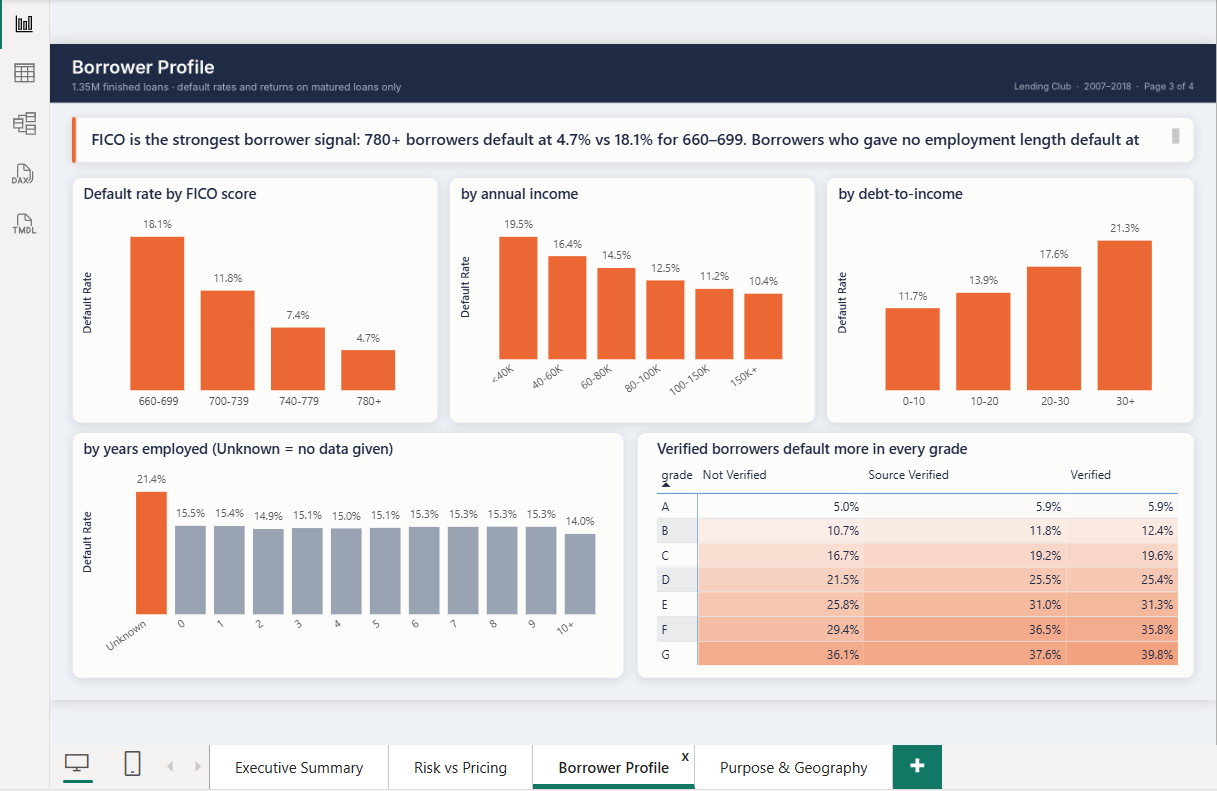

This screenshot's page, from the dashboard's own definition file:
{"tool":"powerbi","page":{"name":"Borrower Profile","canvas":[1280,720],"ordinal":2},"visuals":[{"type":"textbox","box":[40,88,1205,36],"z":0},{"type":"clusteredColumnChart","title":"Default rate by FICO score","fields":{"Category":["loans.fico_band"],"Y":["loans.Default Rate"]},"box":[32,152,386,258],"z":1000},{"type":"clusteredColumnChart","title":"by annual income","fields":{"Category":["loans.income_band"],"Y":["loans.Default Rate"]},"box":[446,152,386,258],"z":2000},{"type":"clusteredColumnChart","title":"by debt-to-income","fields":{"Category":["loans.dti_band"],"Y":["loans.Default Rate"]},"box":[860,152,388,258],"z":3000},{"type":"clusteredColumnChart","title":"by years employed (Unknown = no data given)","fields":{"Category":["loans.Emp Length Label"],"Y":["loans.Default Rate"]},"box":[32,432,590,258],"z":4000},{"type":"pivotTable","title":"Verified borrowers default more in every grade","fields":{"Columns":["loans.verification_status"],"Rows":["loans.grade"],"Values":["loans.Default Rate"]},"box":[661.4,432.2,583.2,258],"z":5000}]}

Visuals, with their boxes on the page's 1280x720 design canvas (x1, y1, x2, y2). These are canvas units, not pixel positions in the 1217x791 screenshot, which may show the page scaled, cropped or inside an application window:
textbox: <bbox>40, 88, 1245, 124</bbox>
"Default rate by FICO score" clusteredColumnChart: <bbox>32, 152, 418, 410</bbox>
"by annual income" clusteredColumnChart: <bbox>446, 152, 832, 410</bbox>
"by debt-to-income" clusteredColumnChart: <bbox>860, 152, 1248, 410</bbox>
"by years employed (Unknown = no data given)" clusteredColumnChart: <bbox>32, 432, 622, 690</bbox>
"Verified borrowers default more in every grade" pivotTable: <bbox>661, 432, 1245, 690</bbox>
